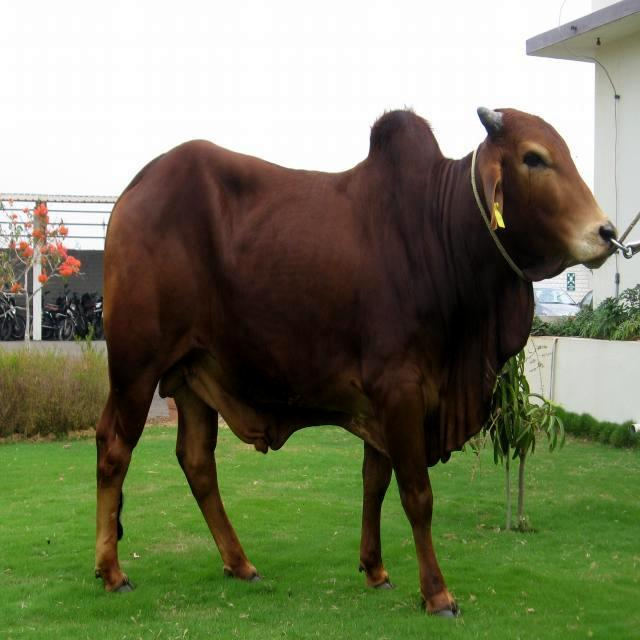COW: (96, 108, 615, 616)
